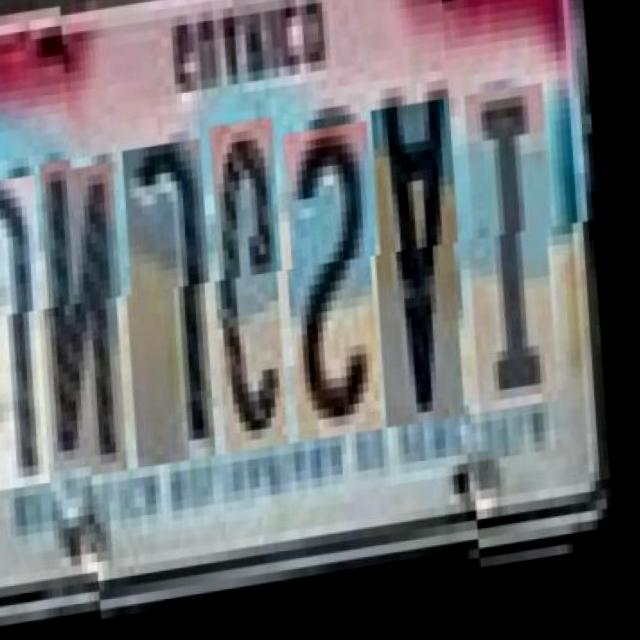a: (372, 113, 486, 443)
g: (211, 127, 310, 463)
i: (465, 92, 578, 422)
j: (124, 145, 237, 474), (0, 186, 71, 505)
n: (42, 166, 149, 486)
s: (286, 134, 402, 454)
